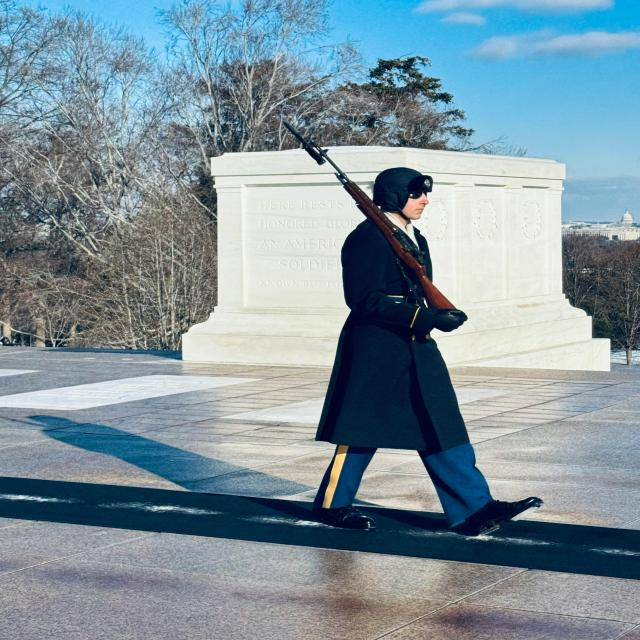stand: (322, 158, 520, 532)
